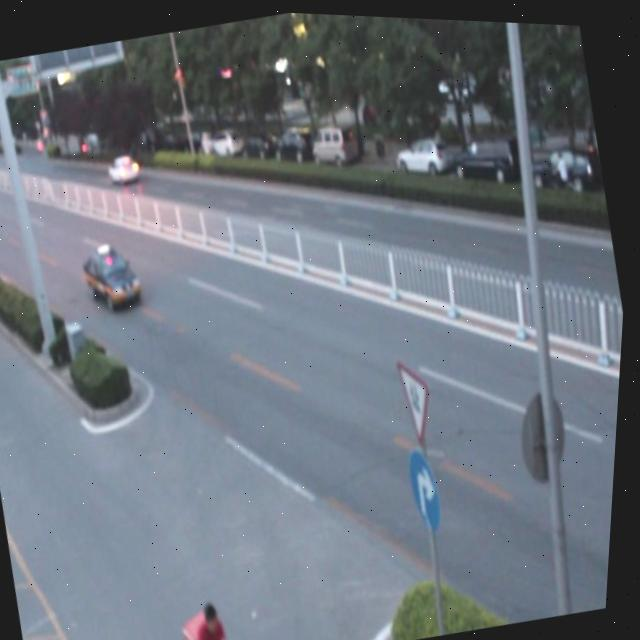car: (79, 235, 151, 314)
